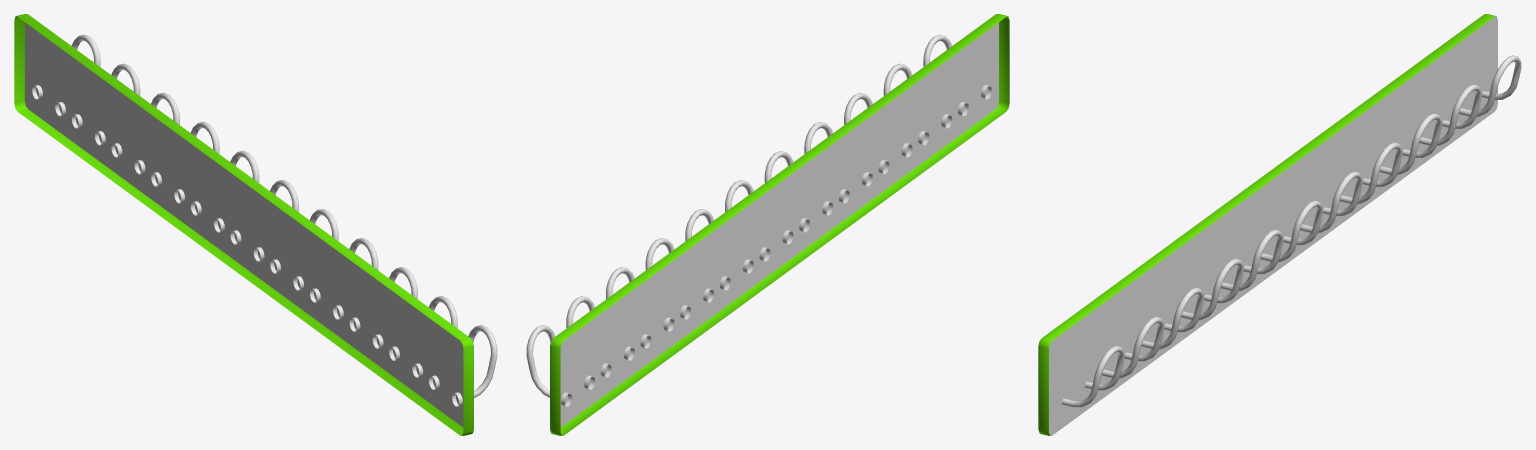
The model's file is Perchero.fbx.
The picture shows the model from 3 angles, left to right: view 1: azimuth 30°, elevation 25°; view 2: azimuth 150°, elevation 25°; view 3: azimuth 330°, elevation 25°; orthographic projection.
Parts seen in each view (by area): view 1: Cube.001, Cylinder; view 2: Cube.001, Cylinder; view 3: Cube.001, Cylinder.
Part boxes in pixels (bbox=[...]): Cube.001: bbox=[14, 14, 473, 435]; Cylinder: bbox=[32, 34, 497, 406]; Cube.001: bbox=[550, 14, 1009, 435]; Cylinder: bbox=[526, 34, 991, 406]; Cube.001: bbox=[1038, 14, 1497, 435]; Cylinder: bbox=[1060, 55, 1521, 408].
Size of the model in its own units: 0.1309 by 0.235 by 2.
